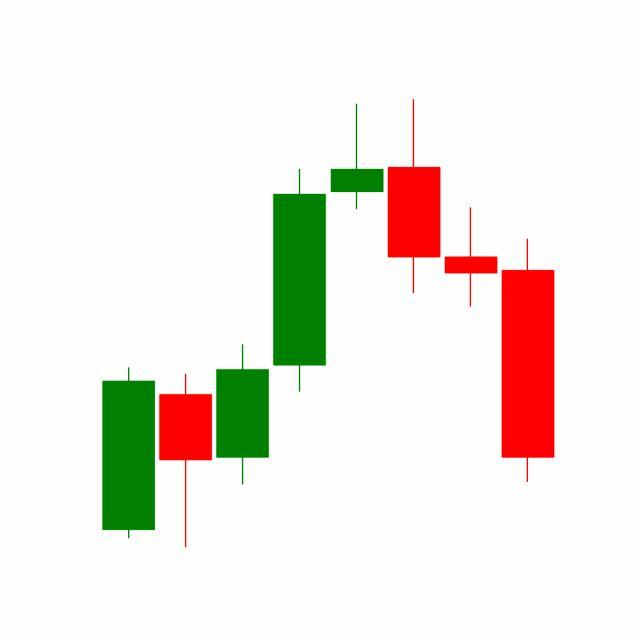Three Outside Up-Down: (328, 99, 500, 311)
